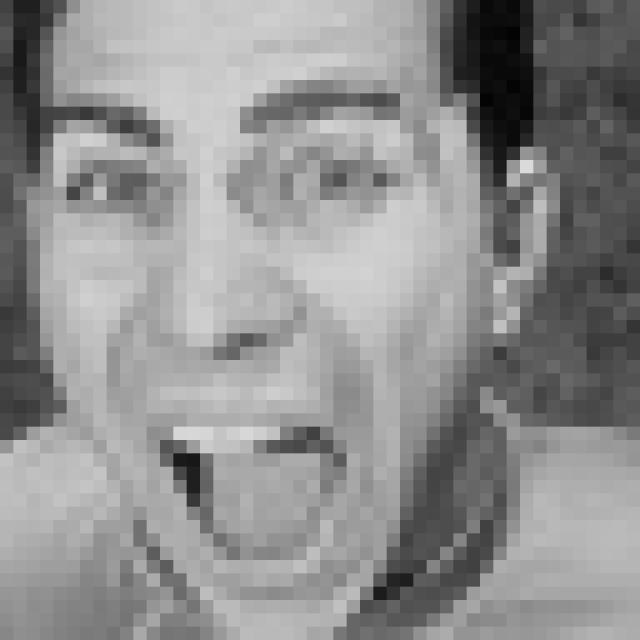angry: (36, 76, 411, 602)
